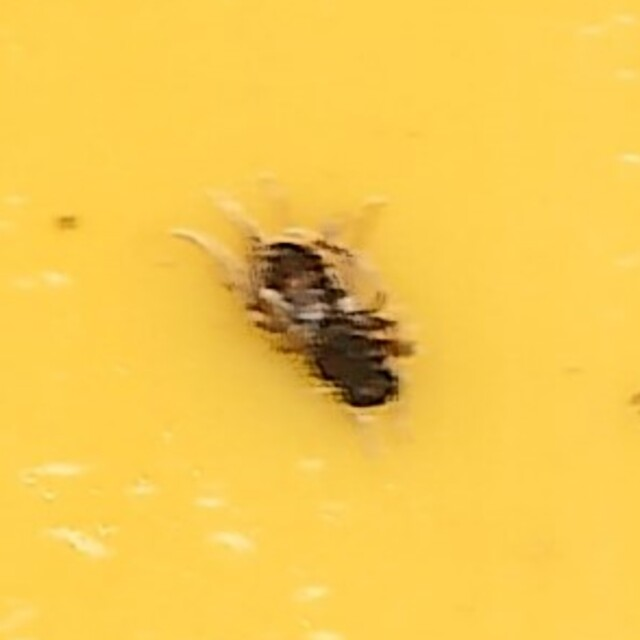Brachycera: (218, 201, 422, 439)
